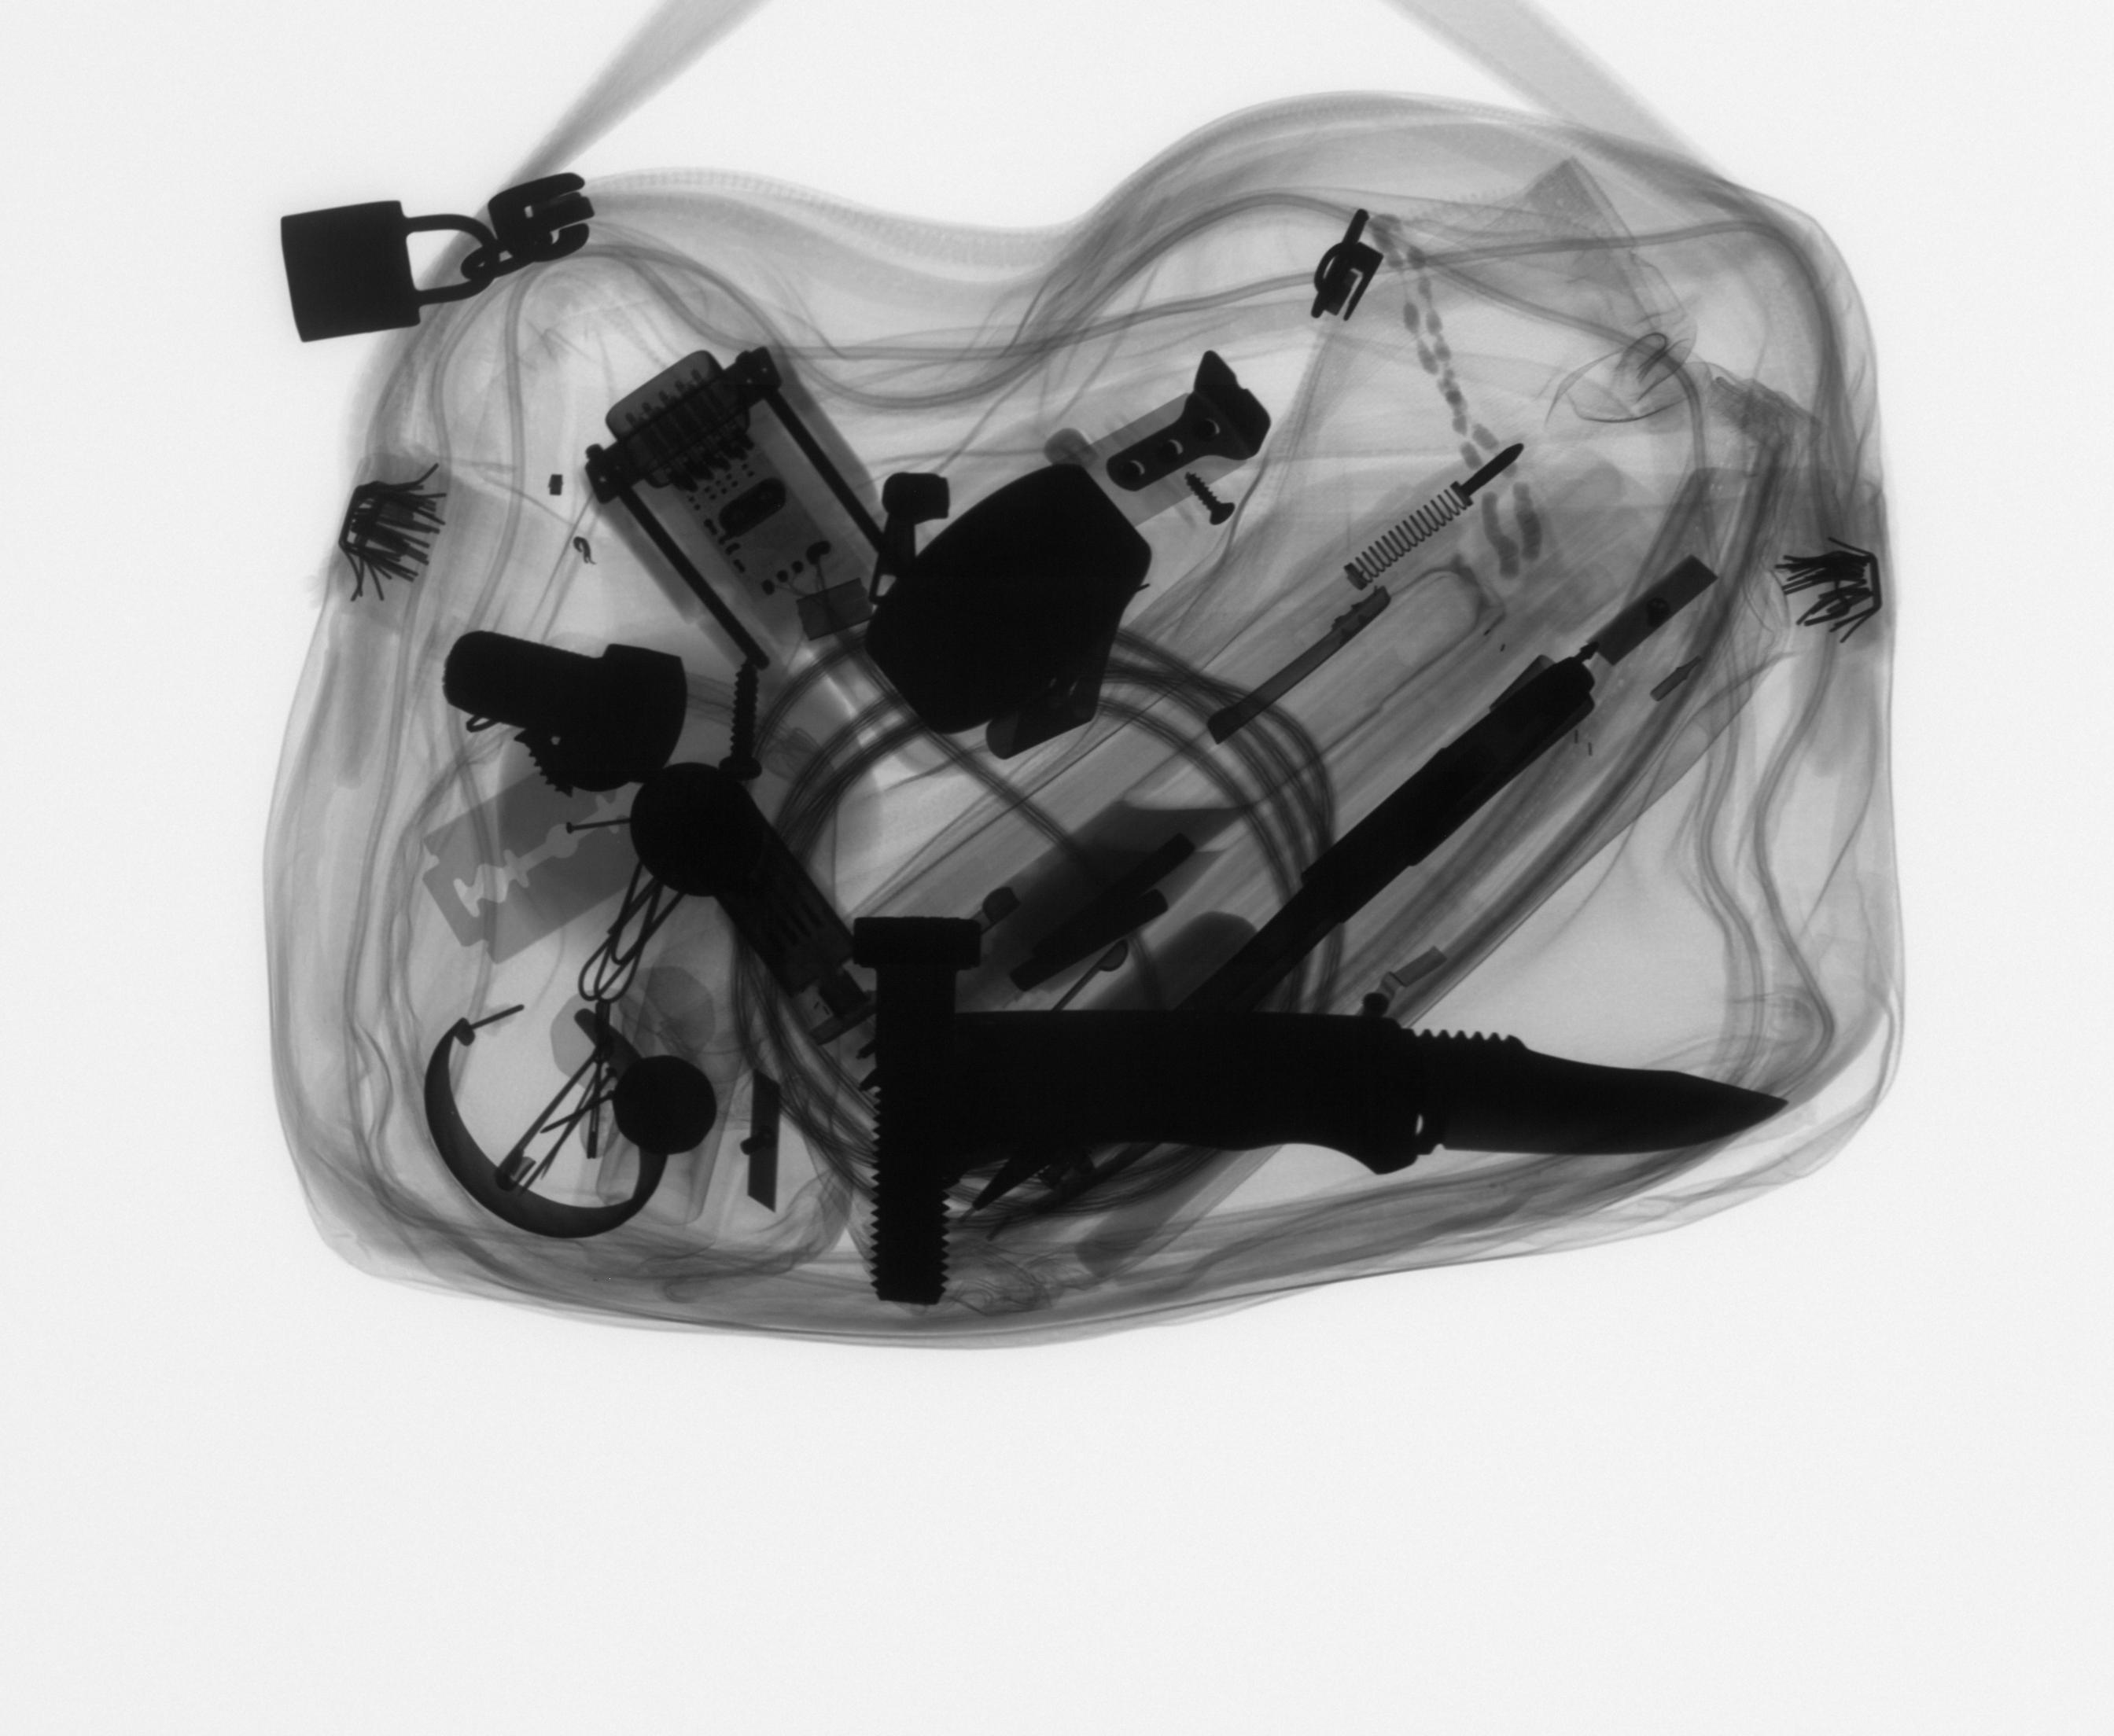Knife: (860, 997, 1803, 1202)
RazorBlade: (411, 732, 718, 978)
